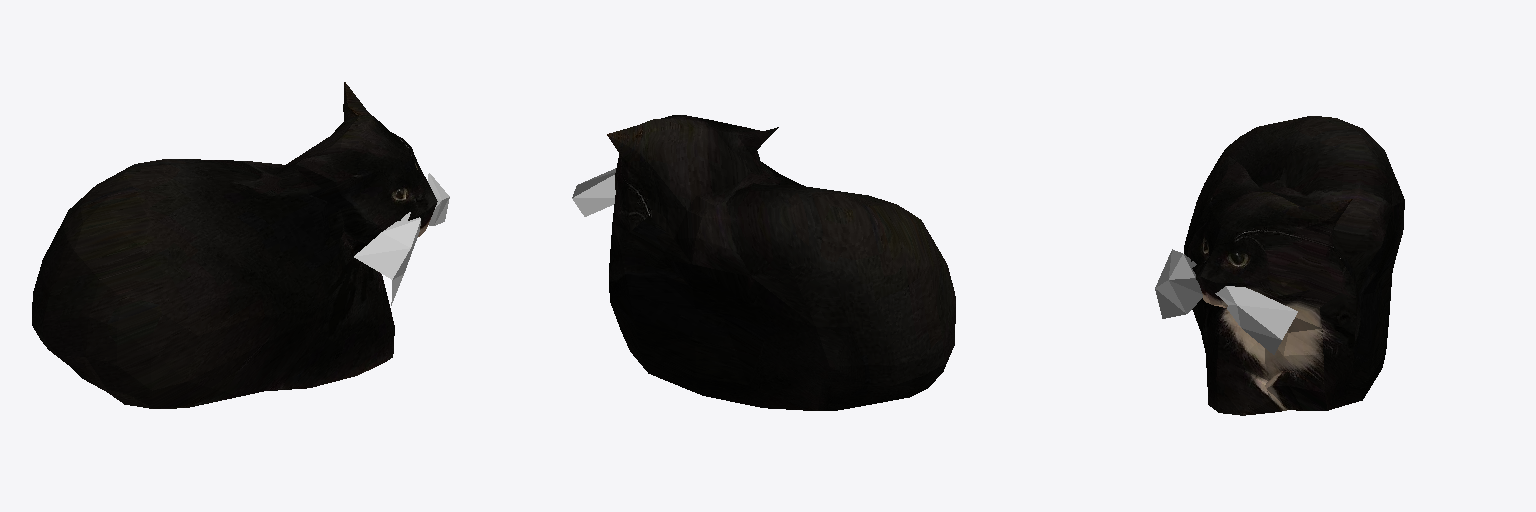
3 views of the same model, side by side, from view 1: azimuth 30°, elevation 25°; view 2: azimuth 150°, elevation 25°; view 3: azimuth 270°, elevation 25° (orthographic).
Visible parts, largest first — view 1: dingus_dingus_0, dingus_whiskers_0; view 2: dingus_dingus_0, dingus_whiskers_0; view 3: dingus_dingus_0, dingus_whiskers_0.
Part boxes in pixels (x1,y1,x2,y2): dingus_dingus_0: (32, 82, 437, 408); dingus_whiskers_0: (354, 173, 449, 305); dingus_dingus_0: (607, 115, 955, 410); dingus_whiskers_0: (572, 168, 615, 216); dingus_dingus_0: (1184, 116, 1404, 415); dingus_whiskers_0: (1155, 249, 1297, 354).
Size of the model in its own units: 3.33 by 1.92 by 1.85.
Materials: 2 (1 with a texture image).